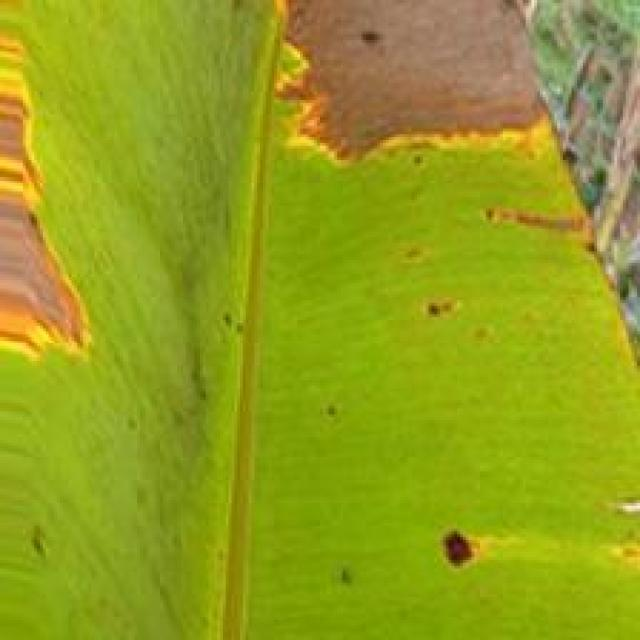Bacterial_spot: (240, 0, 557, 169), (0, 5, 111, 380), (458, 182, 601, 250), (400, 290, 490, 338), (424, 516, 483, 586)
